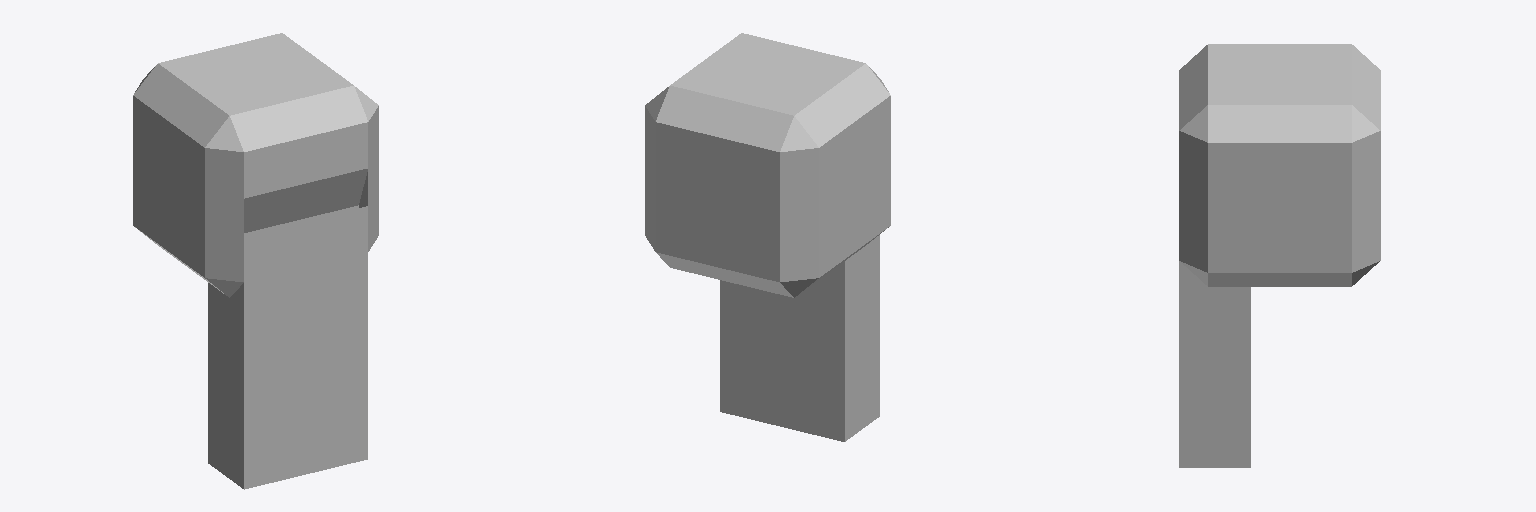
The model's file is whistle.obj.
3 renders of one model, left to right at view 1: azimuth 30°, elevation 25°; view 2: azimuth 150°, elevation 25°; view 3: azimuth 270°, elevation 25°, orthographic.
Visible parts, largest first — view 1: Cube.001; view 2: Cube.001; view 3: Cube.001.
Part boxes in pixels (x1,y1,x2,y2): Cube.001: (133,33,378,489); Cube.001: (645,33,890,441); Cube.001: (1179,44,1380,467).
Size of the model in its own units: 0.2174 by 0.4333 by 0.2174.